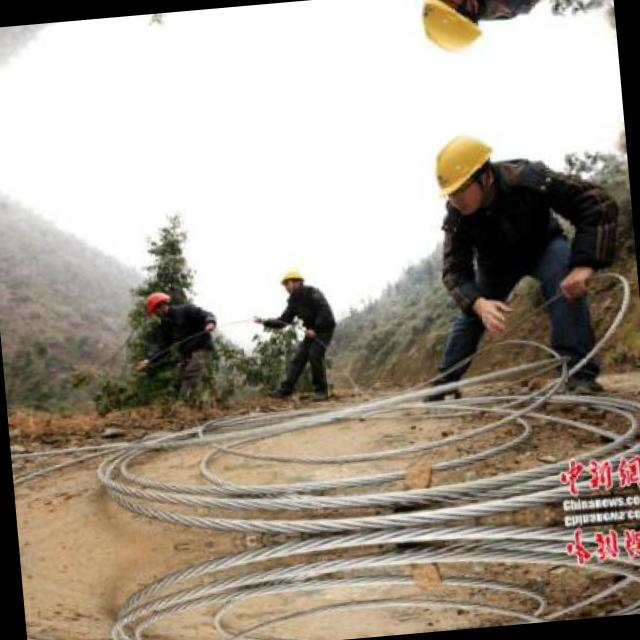helmet: (420, 125, 503, 218), (406, 0, 489, 62), (140, 288, 176, 320), (277, 264, 307, 296)
